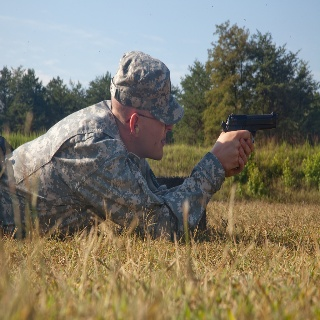pistol: (221, 110, 280, 146)
